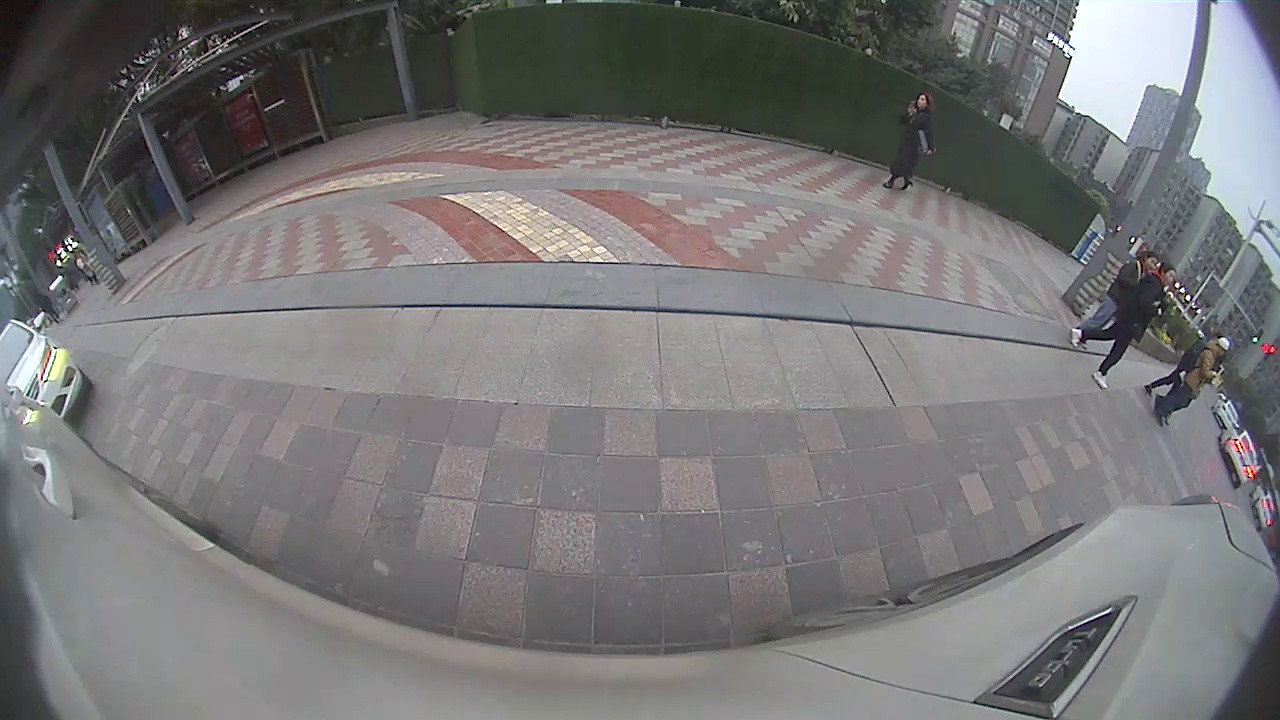car: (0, 310, 97, 423)
person: (1091, 261, 1179, 390), (896, 93, 935, 189)
